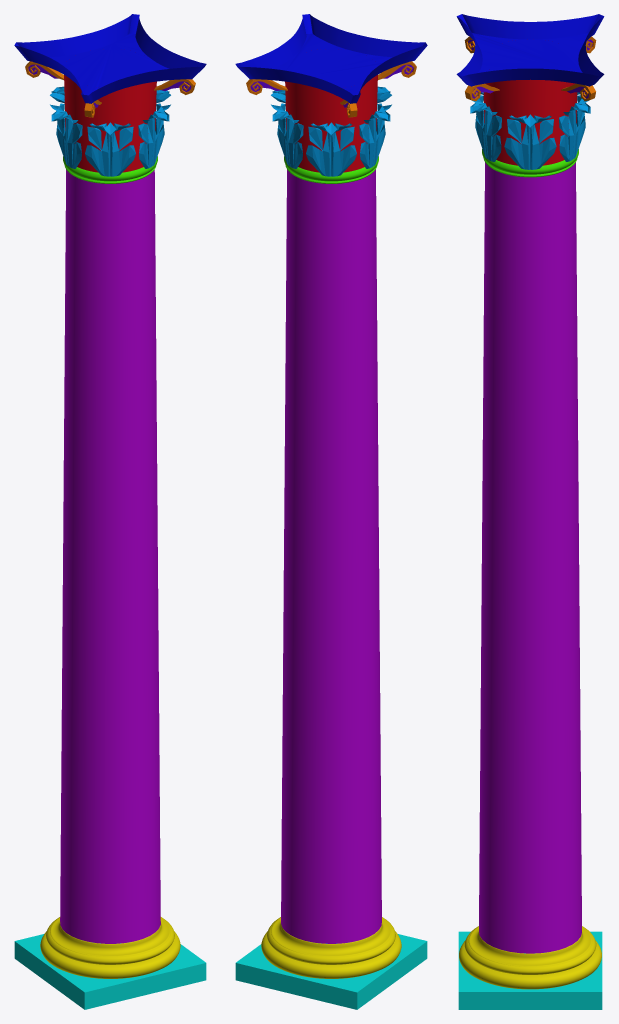
Rendered from Colonne_Grande_Lowv2.fbx.
3 renders of one model, left to right at view 1: azimuth 30°, elevation 25°; view 2: azimuth 150°, elevation 25°; view 3: azimuth 270°, elevation 25°, orthographic. The views are drawn at different scales.
Parts seen in each view (by area): view 1: COL_Centrale_Bas_Gauche_1; view 2: COL_Centrale_Bas_Gauche_1; view 3: COL_Centrale_Bas_Gauche_1.
Part boxes in pixels (x1=…): COL_Centrale_Bas_Gauche_1: x1=14, y1=14, x2=206, y2=1009; COL_Centrale_Bas_Gauche_1: x1=235, y1=14, x2=427, y2=1009; COL_Centrale_Bas_Gauche_1: x1=456, y1=14, x2=604, y2=1009.
Size of the model in its own units: 129 by 898 by 129.
